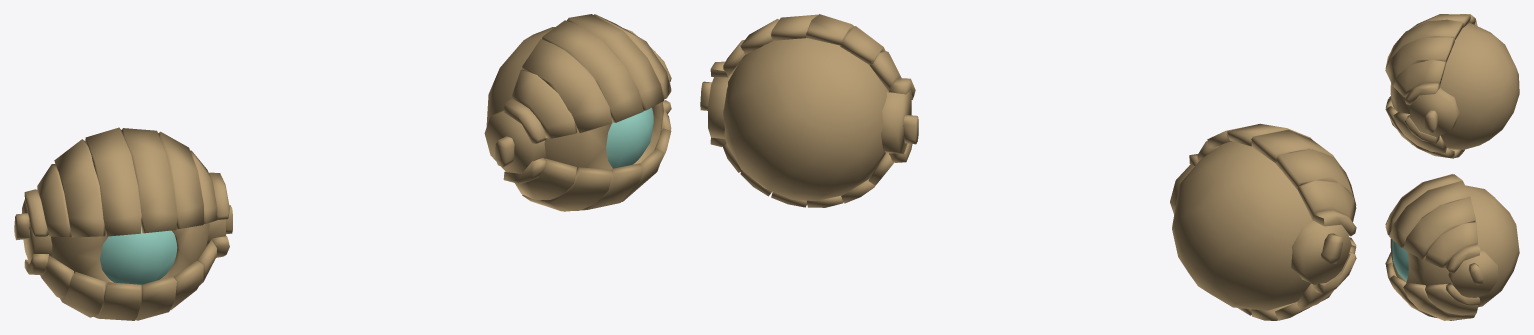
File: Sebastian_Eyes.FBX
3 renders of one model, left to right at view 1: azimuth 30°, elevation 25°; view 2: azimuth 150°, elevation 25°; view 3: azimuth 270°, elevation 25°, orthographic. The views are drawn at different scales.
Parts seen in each view (by area): view 1: Sebastian_Eyes; view 2: Sebastian_Eyes; view 3: Sebastian_Eyes.
Boxes of the visible parts, x1,y1,x2,y2 form: Sebastian_Eyes: (14, 14, 671, 320); Sebastian_Eyes: (700, 14, 1356, 320); Sebastian_Eyes: (1385, 14, 1519, 320).
Bounding box in the file's own units: 7.59 × 2.04 × 1.88.
